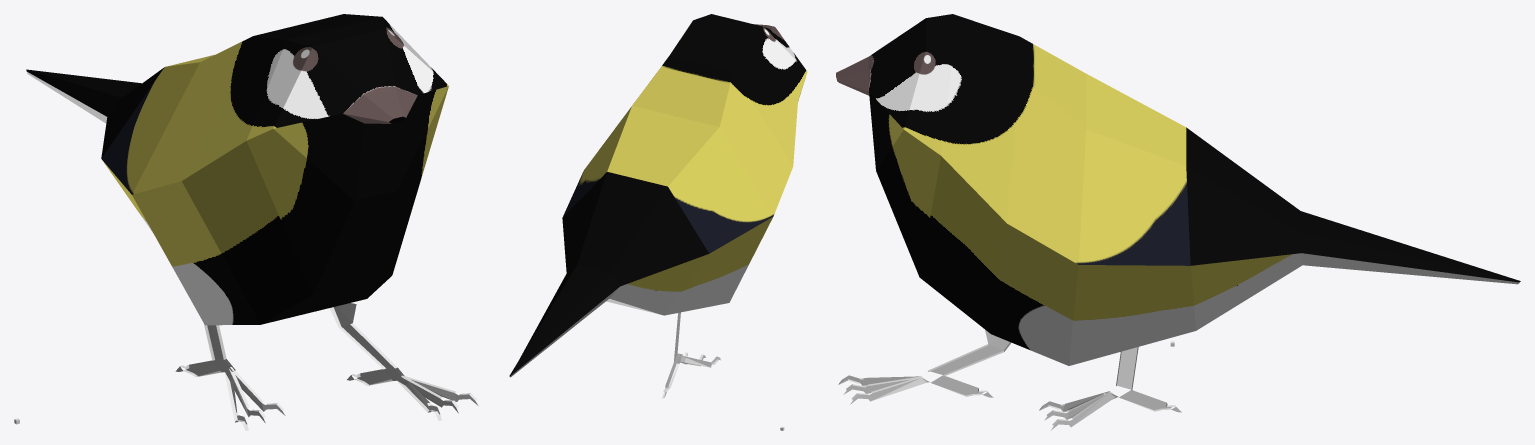
File: zyle2.glb
3 views of the same model, side by side, from view 1: azimuth 30°, elevation 25°; view 2: azimuth 150°, elevation 25°; view 3: azimuth 270°, elevation 25° (orthographic). The views are drawn at different scales.
Visible parts, largest first — view 1: Plane; view 2: Plane; view 3: Plane.
Part boxes in pixels (x1,y1,x2,y2): Plane: (26,14,478,430); Plane: (509,14,807,398); Plane: (836,14,1520,430).
Bounding box in the file's own units: 1.89 × 2.35 × 3.64.
1 material, 1 textured.
